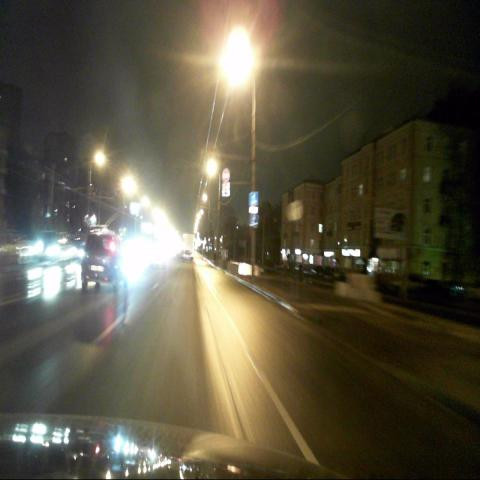3_1: (222, 167, 230, 182)
6_6: (250, 214, 258, 228)
